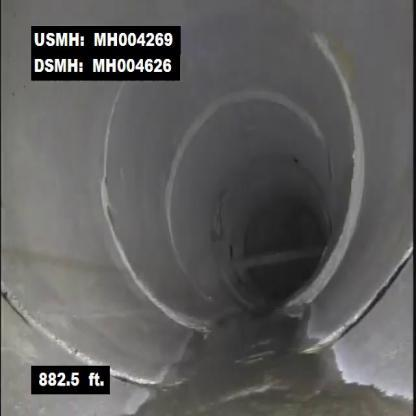jntoffs: (290, 109, 378, 322)
